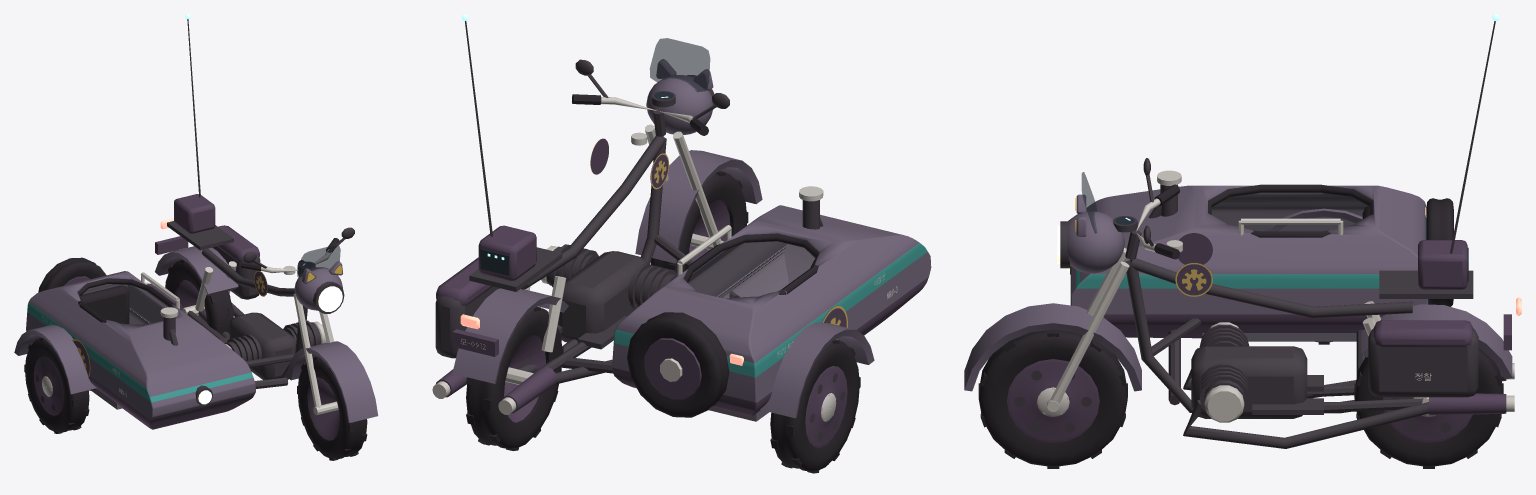
Rendered from monatium_scout.glb.
The picture shows the model from 3 angles, left to right: view 1: azimuth 30°, elevation 25°; view 2: azimuth 150°, elevation 25°; view 3: azimuth 270°, elevation 25°; orthographic projection. The views are drawn at different scales.
Visible parts, largest first — view 1: body_hull, body_gear, wheel_FL, wheel_RR, body_rubber, body_hull_d, body_steel, wheel_RL, body_glass, body_decals, light_head_L; view 2: body_hull, body_gear, body_hull_d, body_rubber, wheel_RR, wheel_RL, body_steel, wheel_FL, body_glass, body_decals, body_lens; view 3: body_hull, body_gear, wheel_FL, body_hull_d, wheel_RL, body_steel, body_rubber, body_decals, body_cabin.
Boxes of the visible parts, x1,y1,x2,y2 form: body_hull: (14, 246, 378, 429); body_gear: (89, 19, 354, 405); wheel_FL: (297, 356, 367, 460); wheel_RR: (24, 337, 89, 433); body_rubber: (38, 238, 339, 323); body_hull_d: (64, 194, 259, 310); body_steel: (140, 249, 338, 415); wheel_RL: (165, 259, 234, 334); body_glass: (297, 245, 340, 277); body_decals: (42, 260, 313, 397); light_head_L: (318, 286, 342, 311); body_hull: (452, 59, 931, 418); body_gear: (435, 21, 823, 384); body_hull_d: (436, 225, 701, 413); body_rubber: (572, 94, 819, 417); wheel_RR: (770, 339, 860, 473); wheel_RL: (466, 306, 563, 450); body_steel: (432, 97, 823, 414); wheel_FL: (650, 171, 748, 273); body_glass: (649, 38, 710, 92); body_decals: (460, 91, 897, 357); body_lens: (480, 249, 509, 275); body_hull: (964, 185, 1512, 391); body_gear: (1060, 21, 1495, 448); wheel_FL: (978, 329, 1127, 468); body_hull_d: (1373, 240, 1511, 415); wheel_RL: (1354, 347, 1503, 468); body_steel: (1047, 170, 1514, 422); body_rubber: (1154, 184, 1453, 306); body_decals: (1115, 216, 1431, 380); body_cabin: (1202, 333, 1356, 341).
Size of the model in its own units: 1.47 by 1.82 by 2.02.
